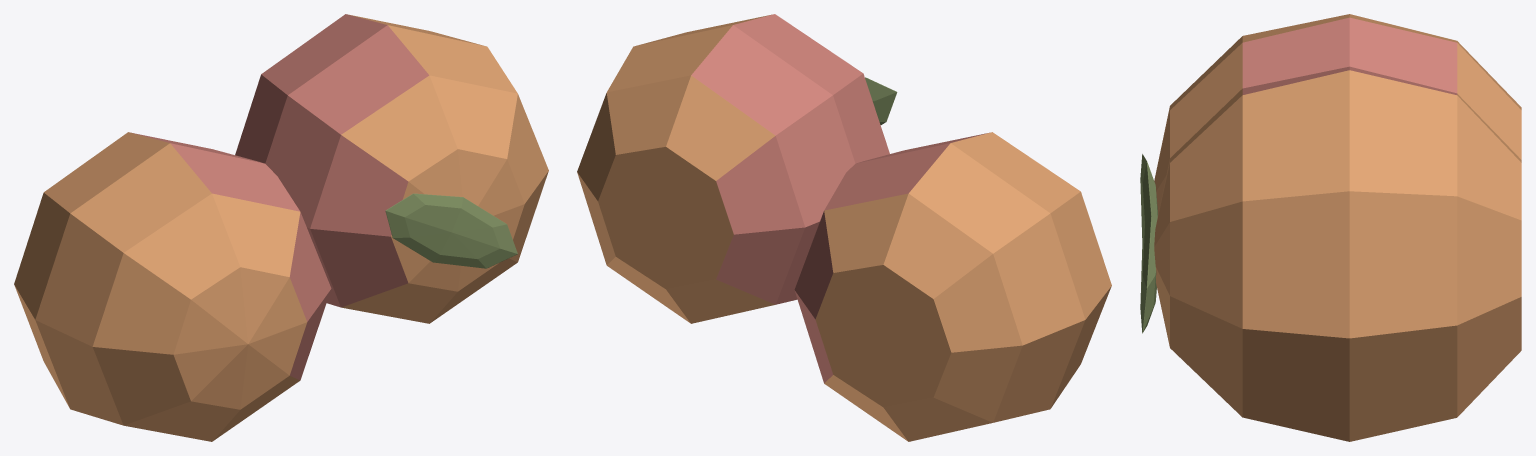
File: Peaches_Pair.glb
3 views of the same model, side by side, from view 1: azimuth 30°, elevation 25°; view 2: azimuth 150°, elevation 25°; view 3: azimuth 270°, elevation 25° (orthographic). The views are drawn at different scales.
Visible parts, largest first — view 1: Peaches_Pair; view 2: Peaches_Pair; view 3: Peaches_Pair.
Boxes of the visible parts, x1,y1,x2,y2 form: Peaches_Pair: (14, 14, 548, 441); Peaches_Pair: (577, 14, 1111, 441); Peaches_Pair: (1140, 14, 1521, 441).
Bounding box in the file's own units: 0.0862 × 0.0597 × 0.0457.
